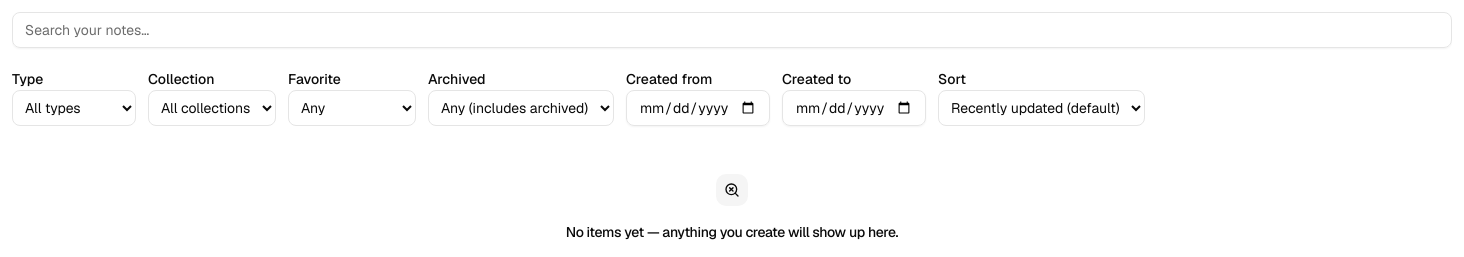
Test: SearchView › clicking a recent search fills the input and re-runs the search
The width and height of the screenshot is (1464, 257).
Focus the field with placeholder "Search your notes…" at (732,30), box [12,12,1452,48]
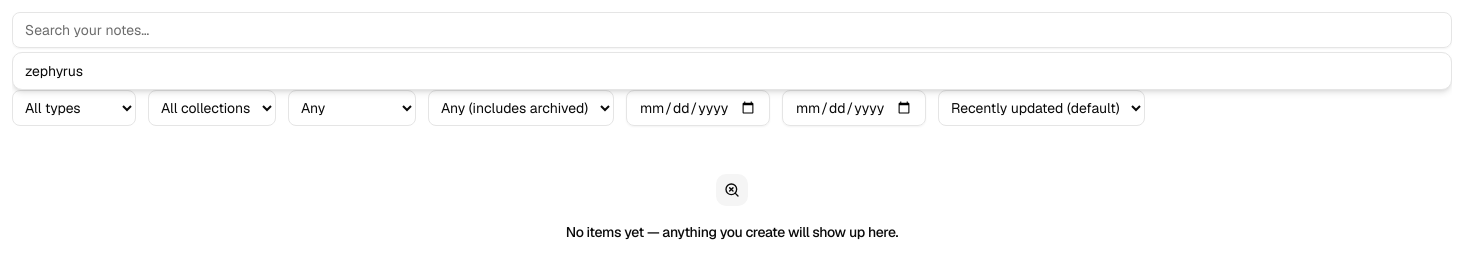
Click the button "zephyrus".
click(54, 71)  # box [13,53,1451,89]
Wait 250 ms
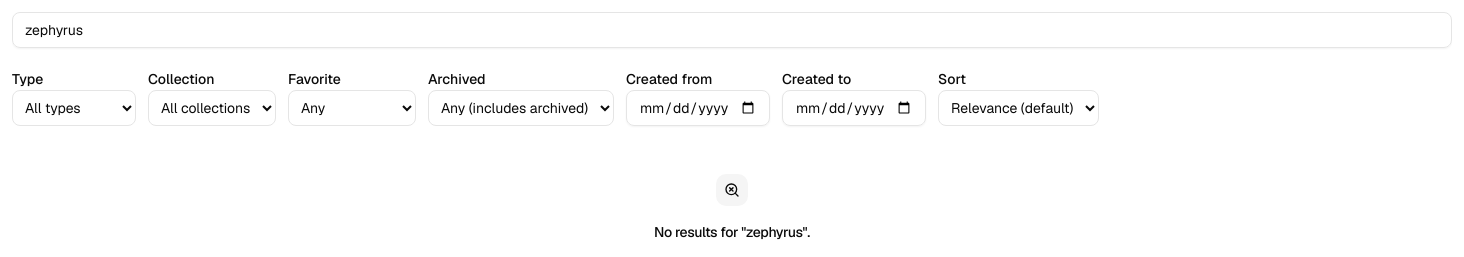
Result: the field with placeholder "Search your notes…" holds "zephyrus" at [12,12,1452,48]
